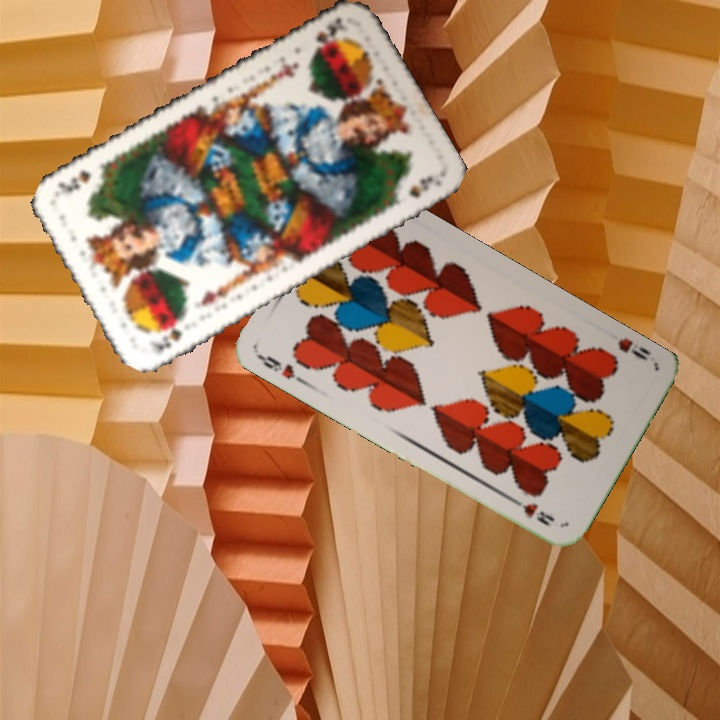H9: (254, 351, 308, 387), (614, 334, 654, 364)
SK: (308, 12, 349, 54), (147, 314, 189, 354)
